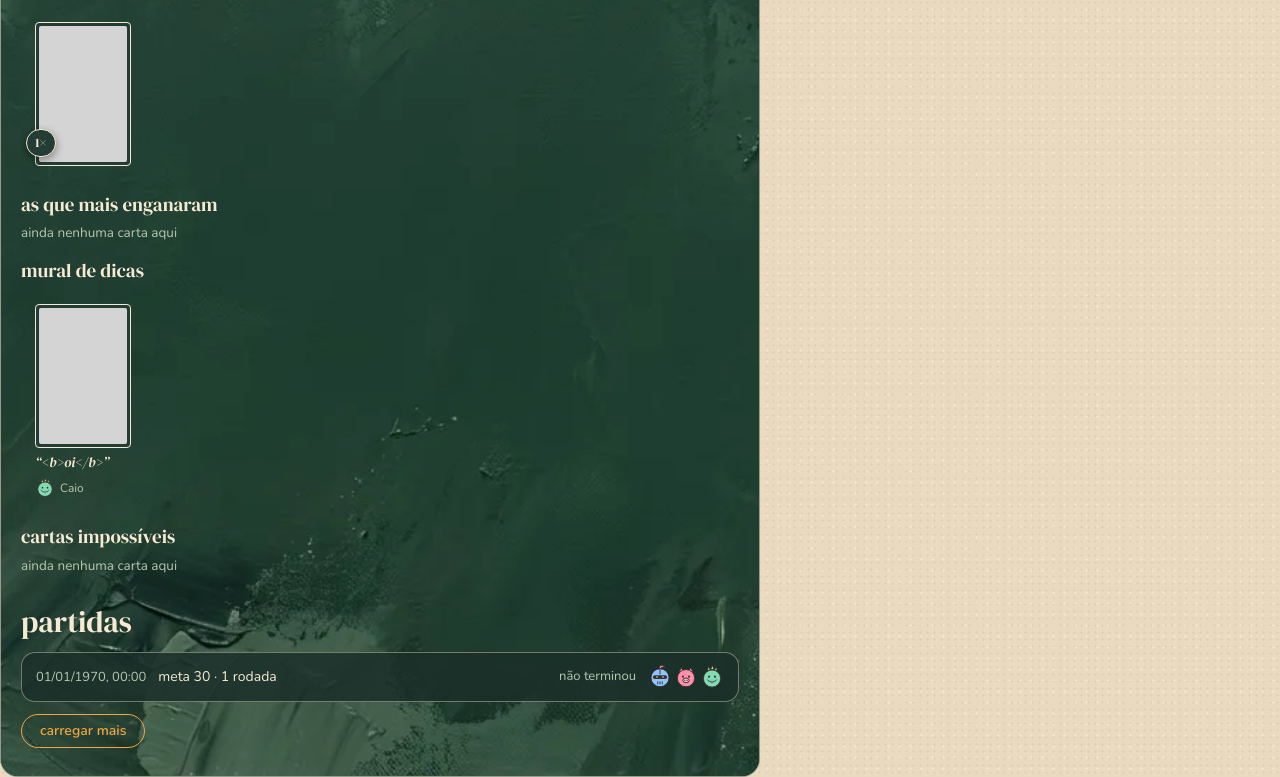
aba histórico do Diquisti › falha ao carregar mais: mensagem perto do botão, que continua lá
(page scrolled)
Click the button "carregar mais": (83,731) [21,714,146,748]
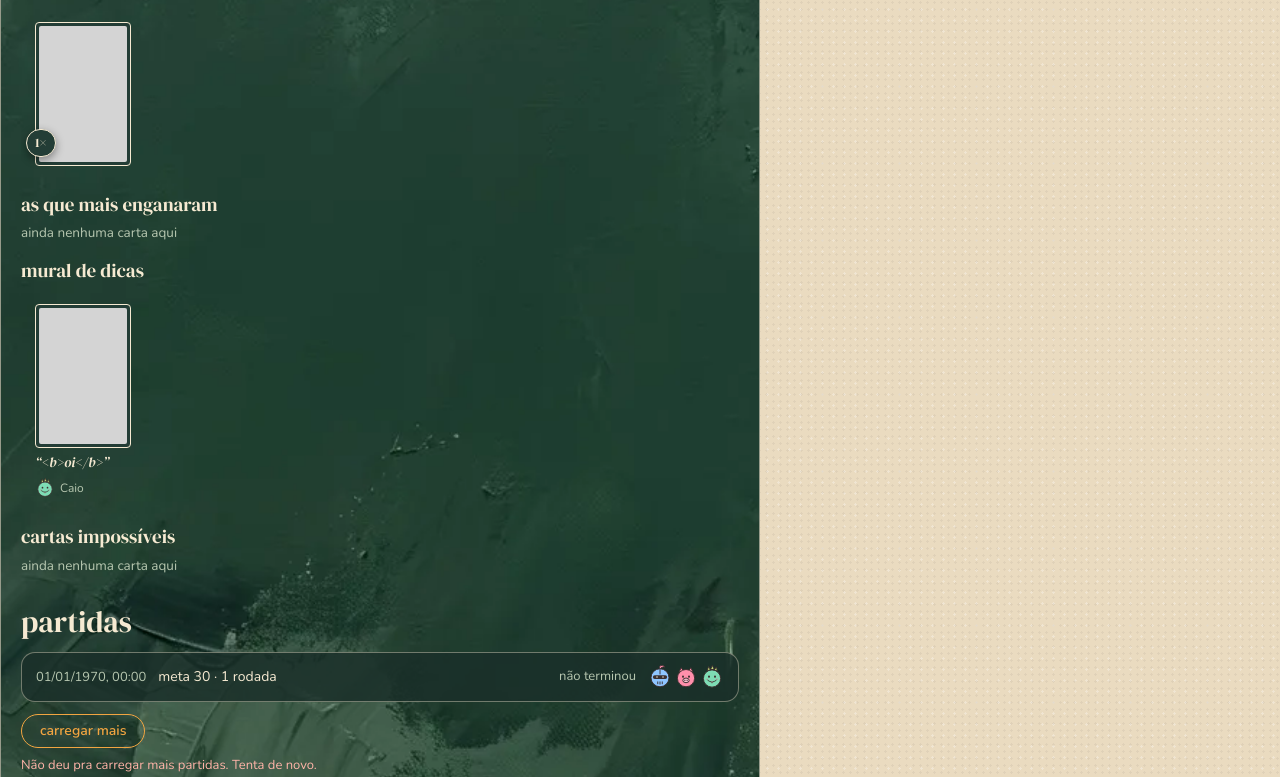
Expected: the text "Não deu pra carregar mais partidas. Tenta de novo." is shown, [21,756,317,774]
